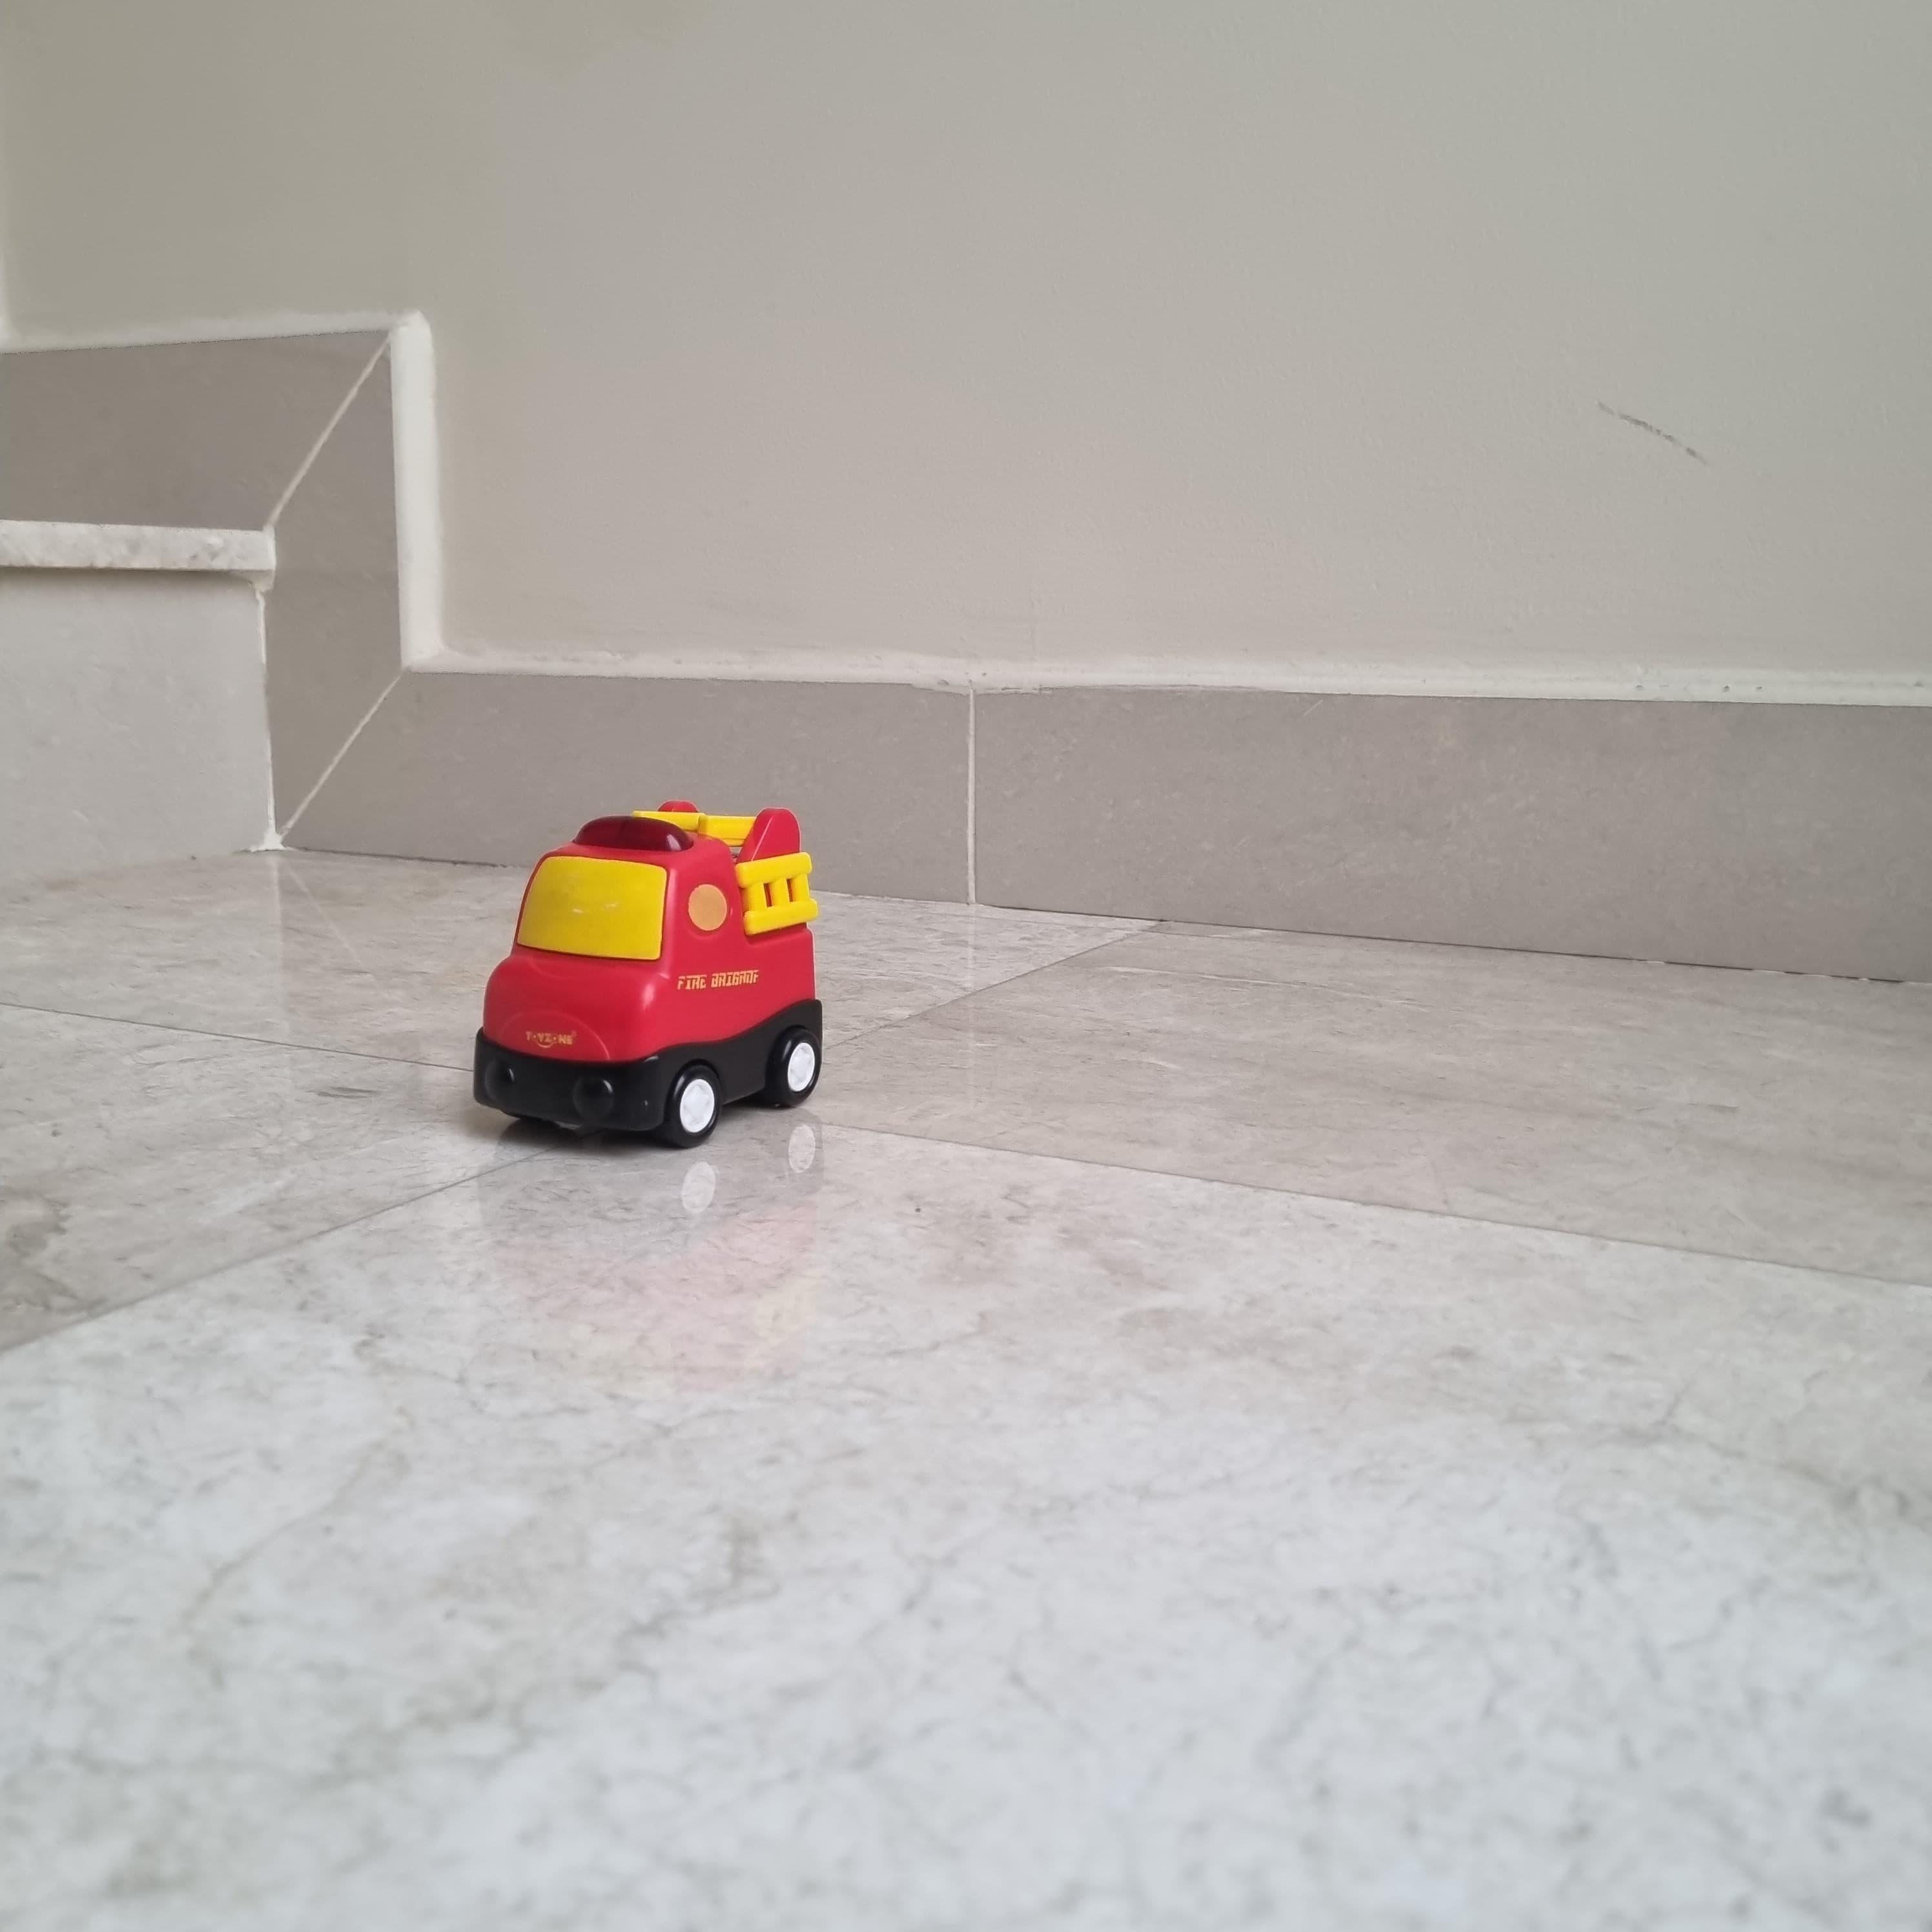firetruck_off: (474, 796, 824, 1145)
